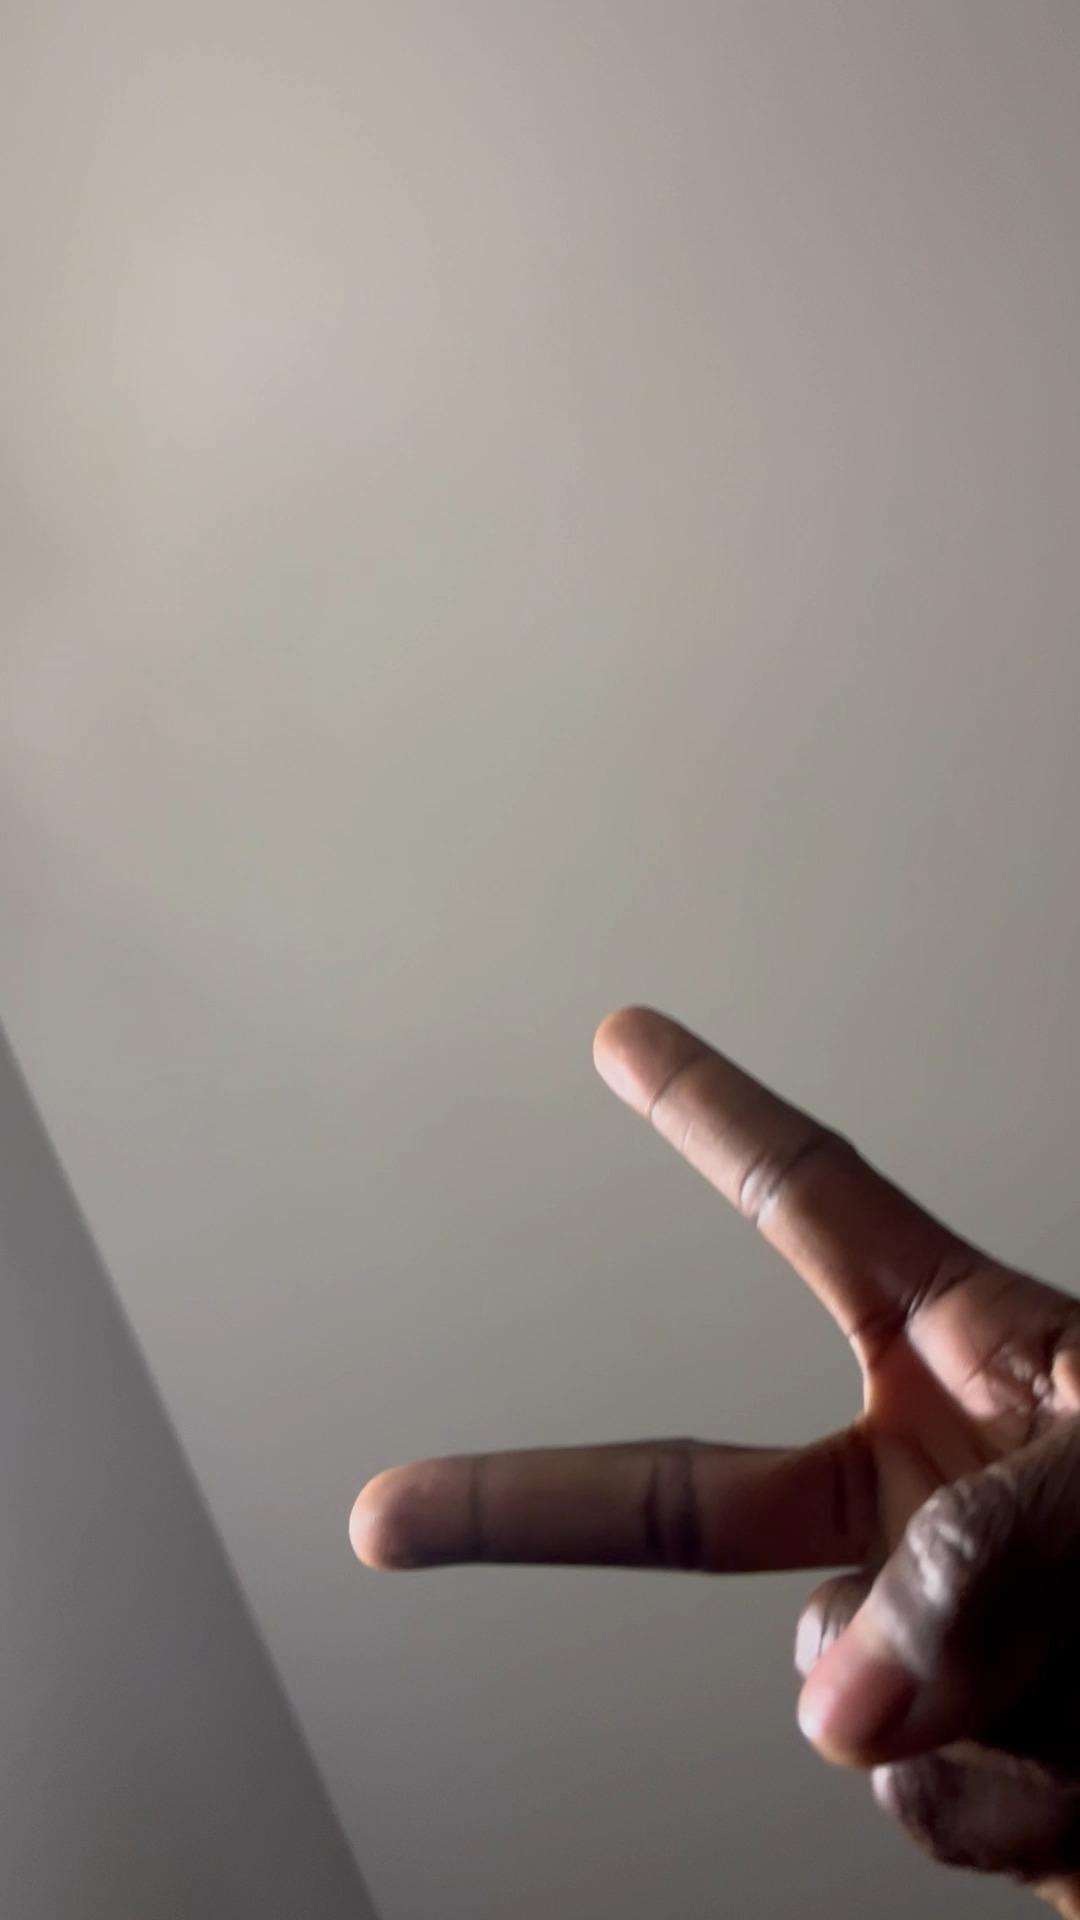Scissors: (337, 1003, 1080, 1896)
